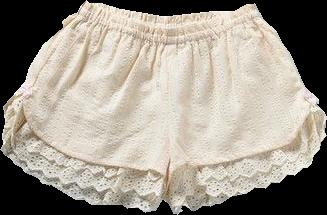Hemline: (1, 114, 164, 213), (3, 107, 163, 200), (172, 134, 326, 213), (183, 143, 323, 209)
Pantleg: (1, 1, 166, 212), (165, 3, 325, 214)
Waistline: (16, 92, 167, 178), (167, 101, 318, 178), (77, 11, 261, 44), (84, 0, 255, 17)
